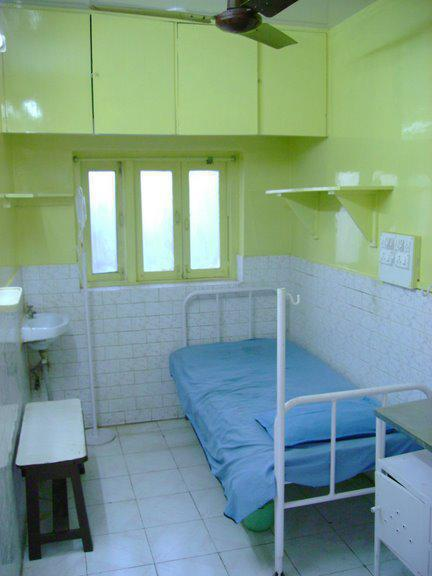Cama: (183, 310, 431, 554)
Lavamanos: (24, 314, 73, 399)
